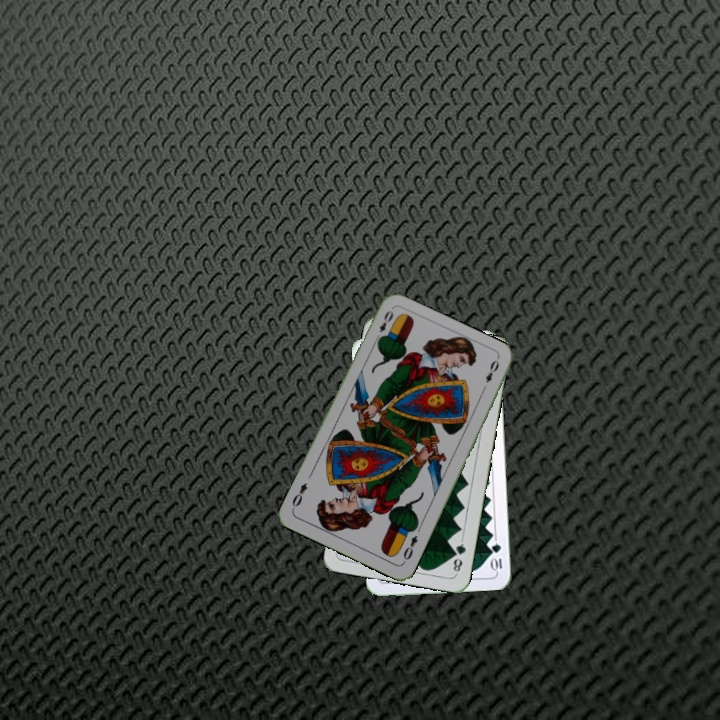EO: (371, 306, 396, 344), (399, 531, 420, 566)
G10: (488, 540, 504, 574)
G8: (449, 536, 469, 576)
